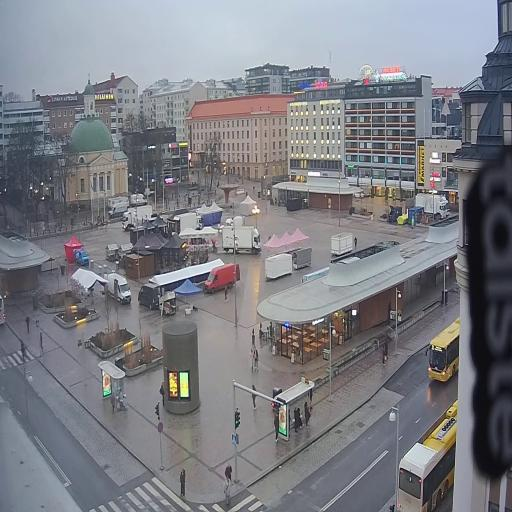bus: (395, 395, 462, 512), (424, 312, 462, 385), (0, 292, 8, 330)
delivery: (202, 258, 242, 298), (219, 224, 264, 256), (413, 190, 447, 224), (121, 202, 157, 234), (106, 269, 132, 308), (136, 276, 164, 312), (224, 210, 247, 232), (108, 200, 129, 221), (129, 187, 150, 207), (72, 246, 90, 269)
